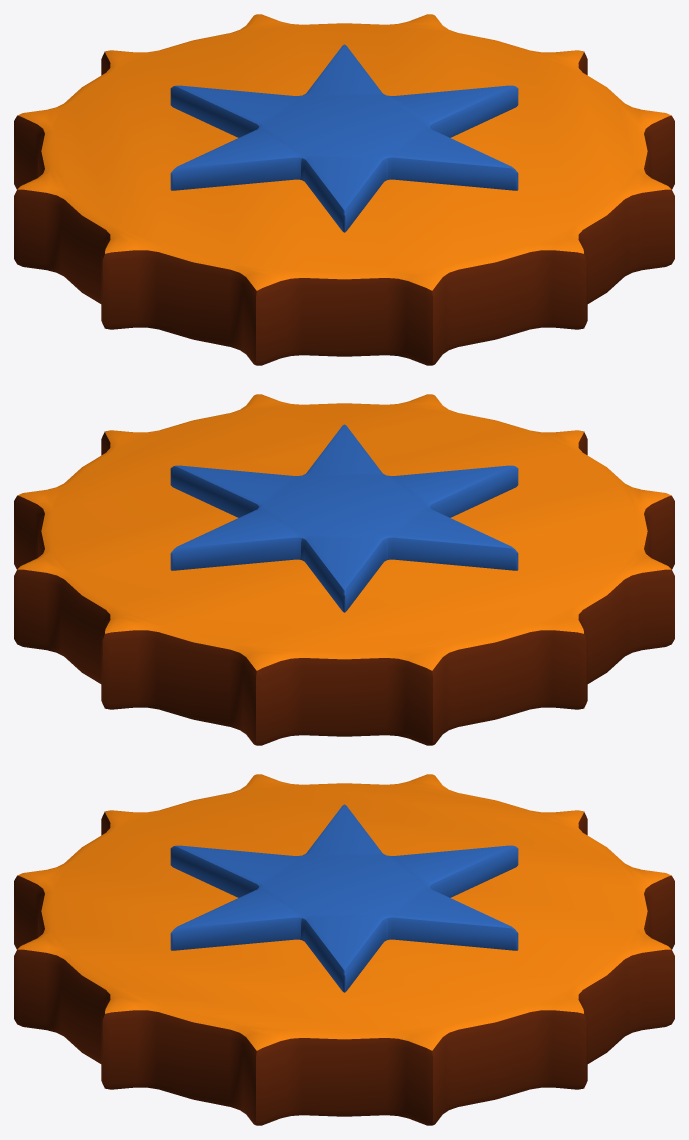
The model's file is moeda.glb.
3 renders of one model, top to bottom at view 1: azimuth 30°, elevation 25°; view 2: azimuth 150°, elevation 25°; view 3: azimuth 270°, elevation 25°, orthographic.
Parts seen in each view (by area): view 1: Moeda; view 2: Moeda; view 3: Moeda.
Boxes of the visible parts, bbox=[...] form: Moeda: bbox=[14, 14, 674, 365]; Moeda: bbox=[14, 394, 674, 745]; Moeda: bbox=[14, 774, 674, 1125].
Bounding box in the file's own units: 1 × 0.2163 × 1.
